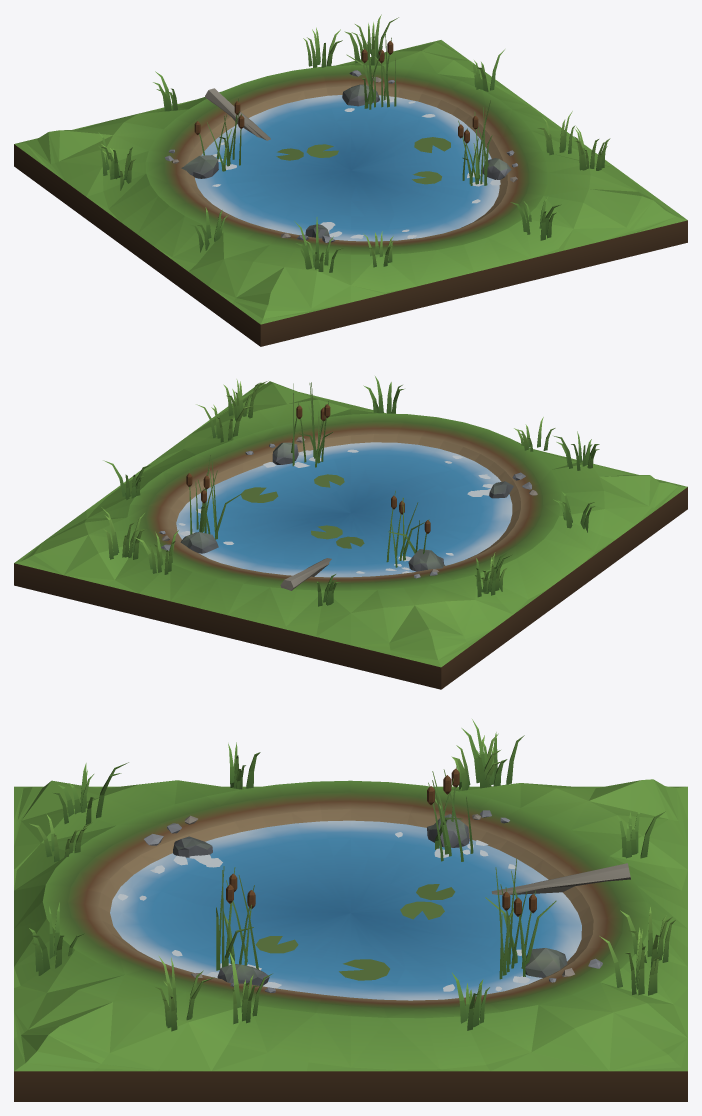
Rendered from lake-tile.glb.
3 views of the same model, one above another, from view 1: azimuth 30°, elevation 25°; view 2: azimuth 150°, elevation 25°; view 3: azimuth 270°, elevation 25° (orthographic). The views are drawn at different scales.
Visible parts, largest first — view 1: lake_tile; view 2: lake_tile; view 3: lake_tile.
Boxes of the visible parts, box(x1,y1,x2,y2) form: lake_tile: box(14, 14, 687, 346); lake_tile: box(14, 376, 687, 689); lake_tile: box(14, 719, 687, 1101).
Size of the model in its own units: 4 by 1 by 4.
